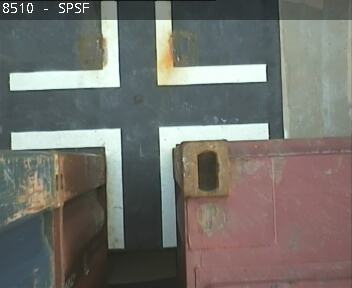groundmarker_1: (12, 123, 267, 247), (10, 1, 265, 91)
